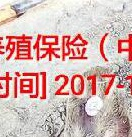text: (79, 91, 108, 121)
